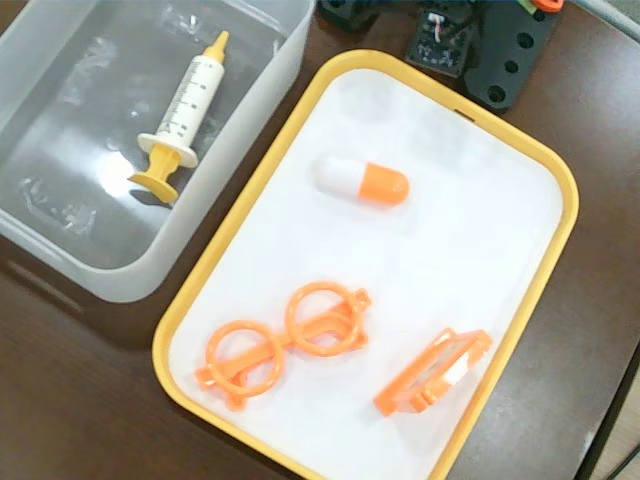pill: (314, 151, 411, 209)
syringe: (127, 31, 231, 205)
